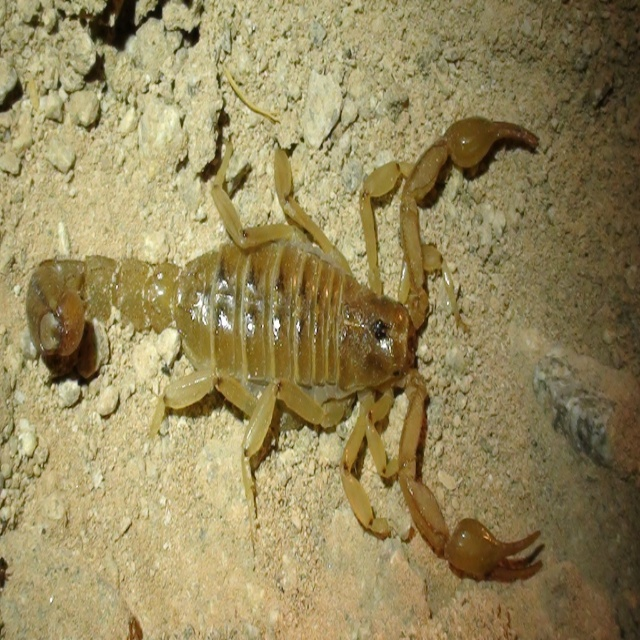Scorpion: (23, 114, 542, 579)
